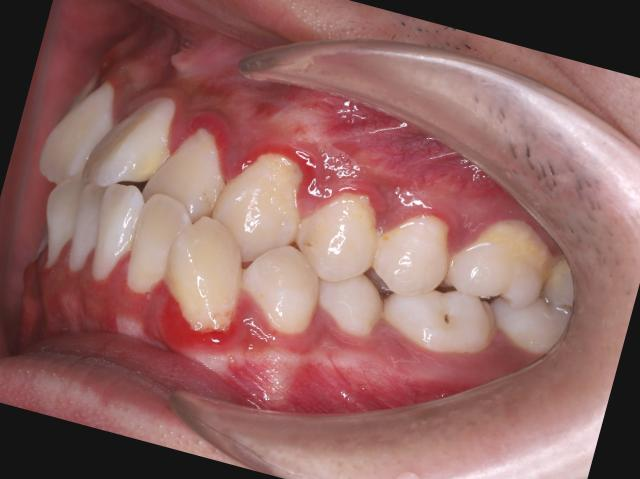canine class II 1/4: (148, 126, 358, 366)
molar class III 1/2: (372, 187, 566, 381)
